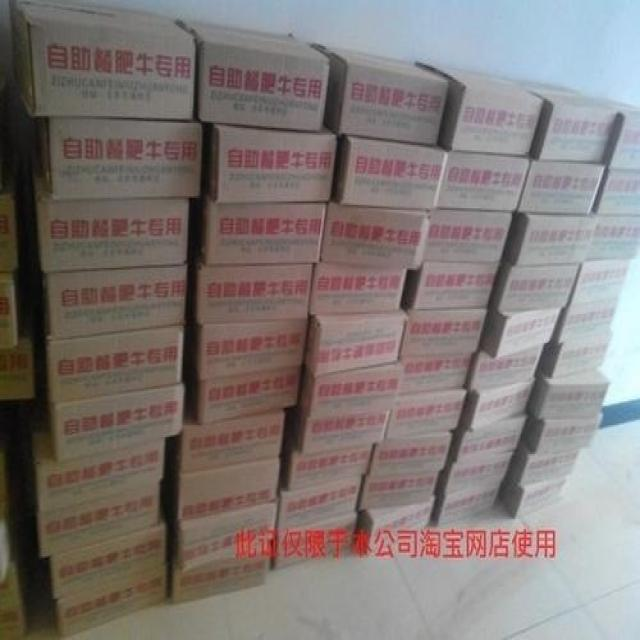box: (24, 0, 196, 120), (175, 18, 330, 132), (32, 178, 189, 274), (310, 41, 450, 146), (40, 118, 202, 200), (415, 60, 542, 155), (33, 431, 165, 514), (493, 74, 617, 162), (45, 265, 187, 341), (50, 383, 184, 463), (46, 326, 184, 402), (210, 123, 337, 204), (51, 518, 166, 599), (200, 193, 328, 265), (38, 482, 159, 558), (331, 134, 450, 210), (57, 565, 167, 636), (320, 199, 431, 269), (196, 262, 313, 324), (177, 501, 277, 573), (304, 308, 408, 377), (180, 410, 285, 474), (198, 320, 308, 380), (177, 457, 280, 521), (197, 366, 301, 425), (299, 362, 405, 417), (435, 151, 530, 212), (172, 547, 271, 604), (503, 210, 599, 266), (490, 254, 580, 312), (309, 261, 406, 314), (399, 300, 488, 355), (277, 475, 362, 532), (479, 301, 561, 360), (423, 208, 514, 261), (293, 406, 391, 455), (403, 261, 500, 310), (517, 161, 605, 215), (358, 496, 435, 556), (274, 513, 356, 569), (527, 367, 611, 421), (459, 377, 536, 433), (583, 94, 639, 169), (448, 411, 528, 463), (288, 442, 372, 491), (386, 388, 467, 438), (368, 431, 452, 479), (520, 408, 603, 454), (466, 345, 544, 391), (538, 332, 613, 379), (429, 480, 503, 527), (498, 471, 567, 520), (507, 439, 580, 484), (437, 451, 514, 493), (397, 354, 473, 394), (567, 260, 631, 307), (359, 472, 440, 509), (553, 300, 619, 345), (585, 215, 639, 259), (592, 167, 639, 216)
